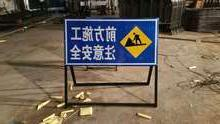sign: (65, 17, 157, 66)
